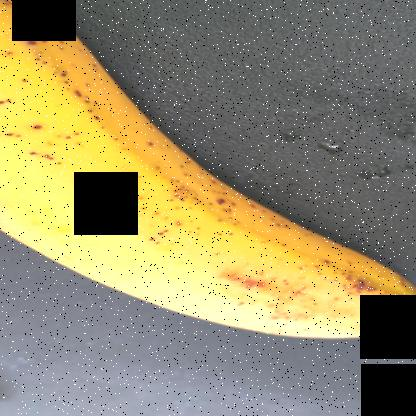ripe: (0, 1, 411, 342)
